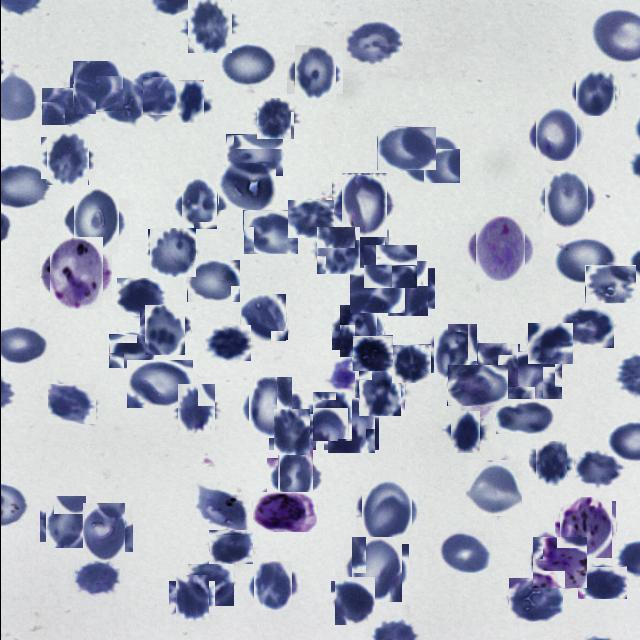difficult: (556, 499, 613, 556), (531, 536, 586, 588)
gametocyte: (252, 492, 316, 532)
red blood cell: (346, 540, 404, 598), (126, 360, 192, 408), (358, 483, 414, 539), (68, 193, 124, 249), (466, 461, 522, 516), (552, 237, 616, 285), (499, 351, 561, 399), (398, 135, 459, 183), (336, 178, 390, 232), (217, 162, 275, 210), (539, 173, 592, 225), (344, 19, 402, 66), (244, 382, 296, 434), (324, 401, 376, 452), (219, 42, 277, 87), (376, 126, 435, 170), (446, 364, 507, 406), (70, 62, 121, 112), (78, 506, 128, 556), (430, 326, 480, 376), (507, 577, 562, 622), (349, 268, 404, 313), (290, 48, 339, 98), (196, 486, 246, 535), (242, 210, 297, 254), (225, 134, 282, 176), (362, 244, 416, 288), (184, 2, 233, 50), (438, 530, 492, 573), (43, 134, 91, 182), (382, 264, 430, 312), (147, 228, 195, 276), (532, 110, 580, 158), (95, 76, 142, 125), (186, 259, 239, 302), (272, 452, 318, 500), (42, 498, 88, 546), (560, 308, 613, 348), (240, 294, 286, 340), (334, 308, 380, 354), (315, 228, 361, 274), (495, 400, 556, 434), (357, 368, 402, 414), (142, 308, 188, 352), (332, 579, 377, 623), (128, 74, 173, 118), (40, 87, 92, 125), (573, 450, 623, 489), (584, 265, 635, 303), (250, 563, 294, 607), (173, 387, 217, 431), (310, 395, 354, 439), (187, 564, 233, 606), (47, 384, 95, 424), (528, 323, 574, 364), (343, 226, 386, 269), (573, 71, 616, 114), (177, 182, 220, 225), (116, 278, 164, 316), (270, 411, 312, 453), (476, 343, 518, 385), (287, 200, 333, 238), (72, 560, 119, 596), (204, 325, 250, 361), (576, 566, 626, 599), (171, 578, 211, 618), (255, 99, 295, 138), (108, 334, 153, 368), (391, 344, 430, 383), (532, 444, 570, 484), (208, 530, 252, 564), (351, 336, 392, 372), (446, 414, 482, 450), (172, 84, 208, 120)
ring: (471, 220, 528, 278)
trophozoite: (44, 242, 106, 304)
